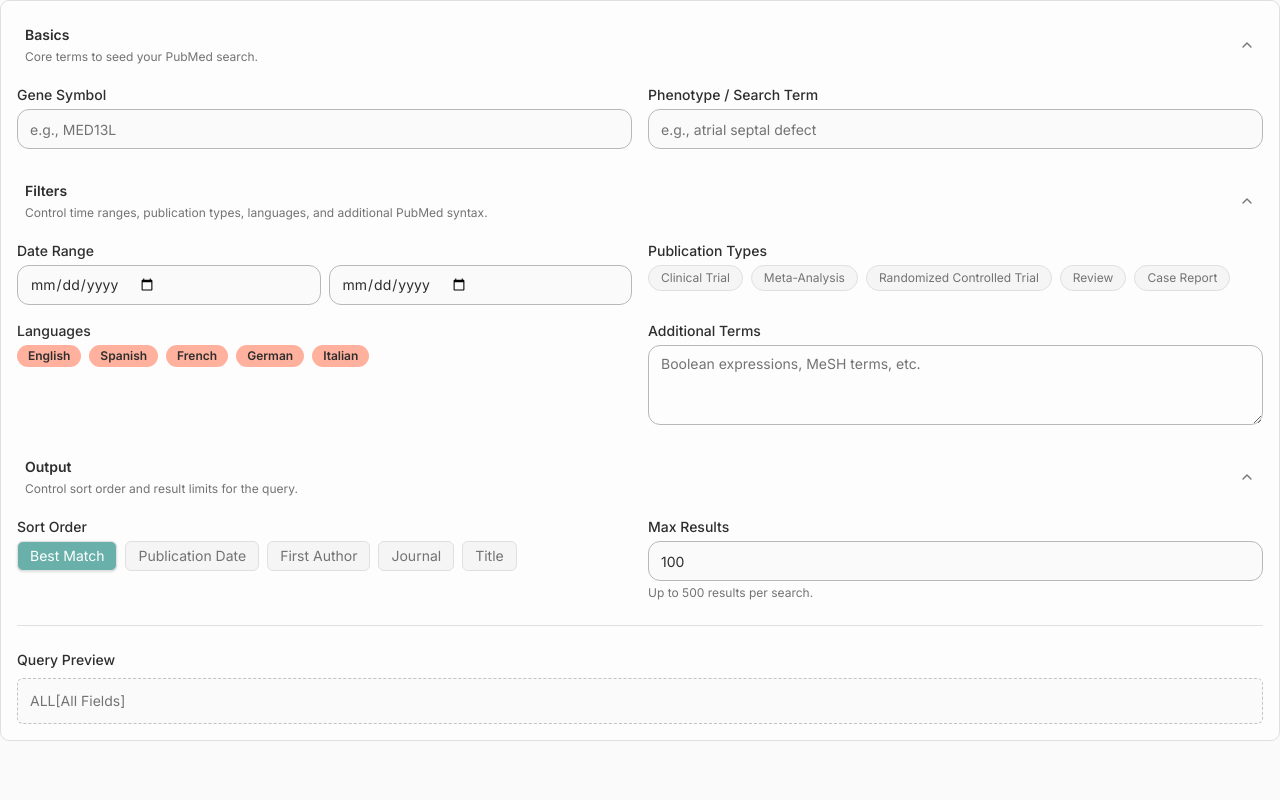
Test: ParameterBar › updates query preview when inputs change
The image size is (1280, 800).
In the field labelled "Gene Symbol": (324,129) [17,109,632,149], type "tp53"
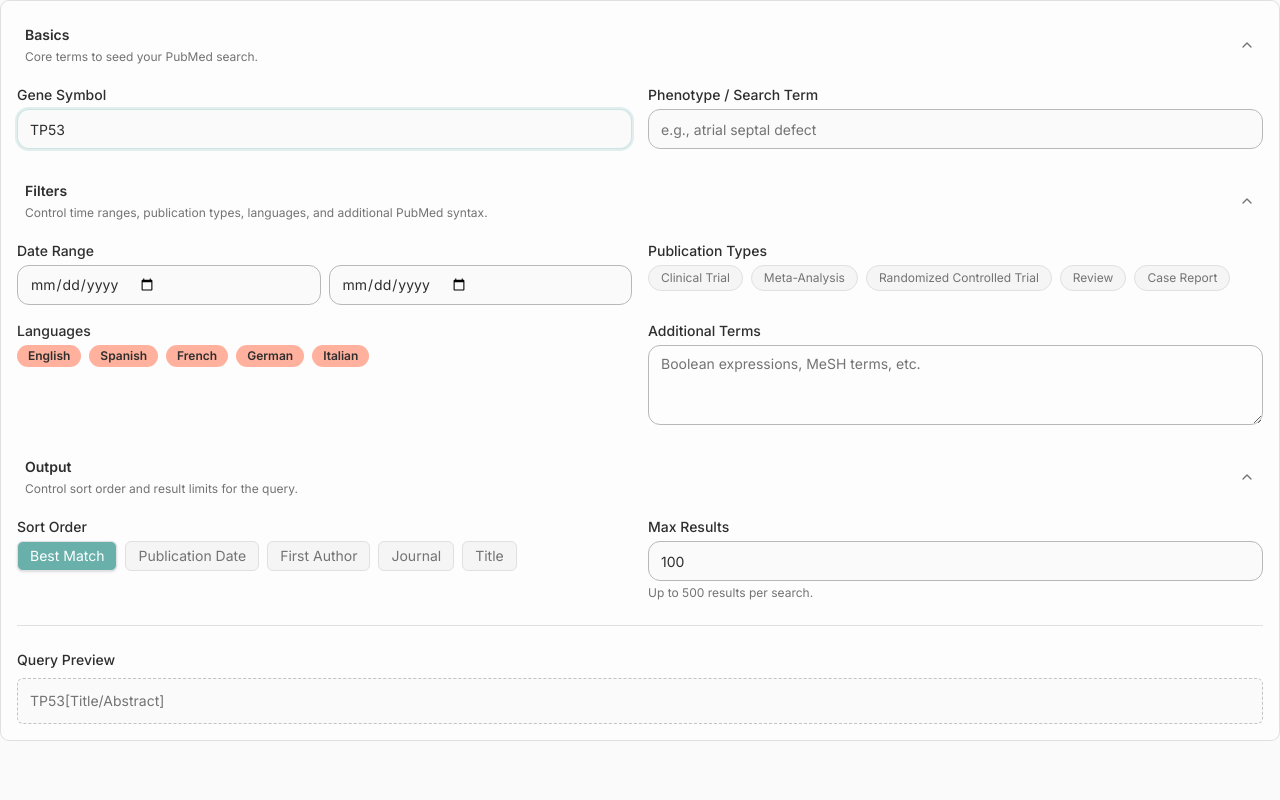
Expected: the text "TP53[Title/Abstract]" is shown, [17,678,1263,724]
